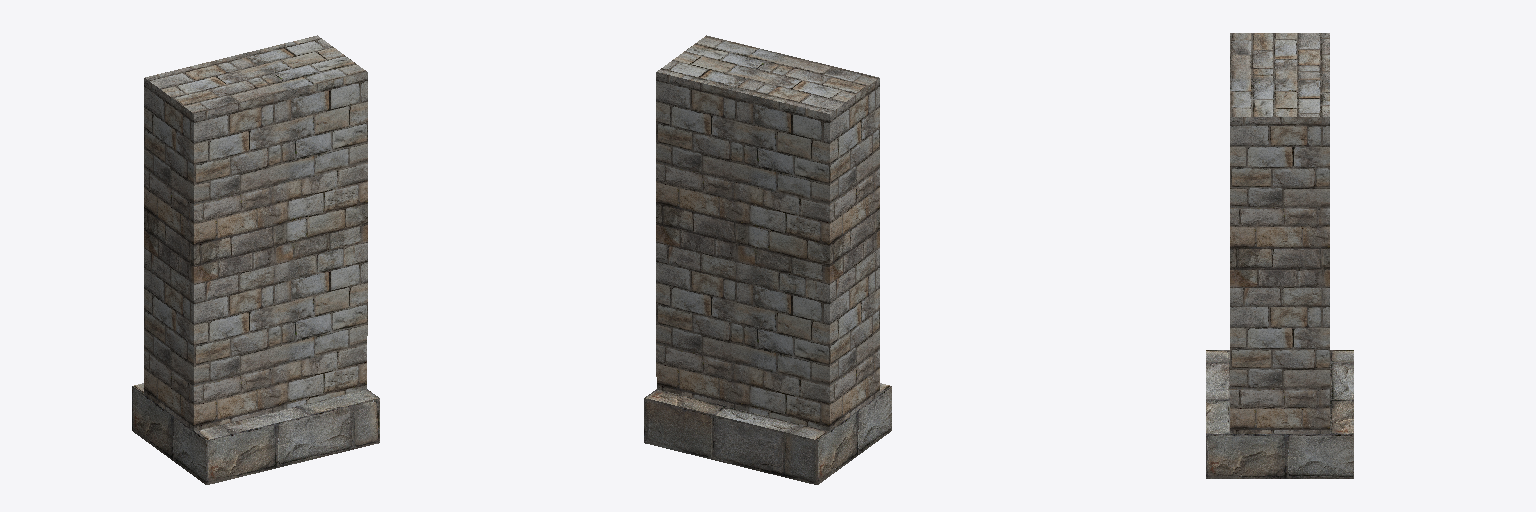
The picture shows the model from 3 angles: view 1: azimuth 30°, elevation 25°; view 2: azimuth 150°, elevation 25°; view 3: azimuth 270°, elevation 25°; orthographic projection.
Parts seen in each view (by area): view 1: Column; view 2: Column; view 3: Column.
Part boxes in pixels (x1,y1,x2,y2): Column: (132,35,379,484); Column: (644,35,891,484); Column: (1206,33,1353,478).
Size of the model in its own units: 21.93 by 43.86 by 16.27.
2 materials, 2 textured.